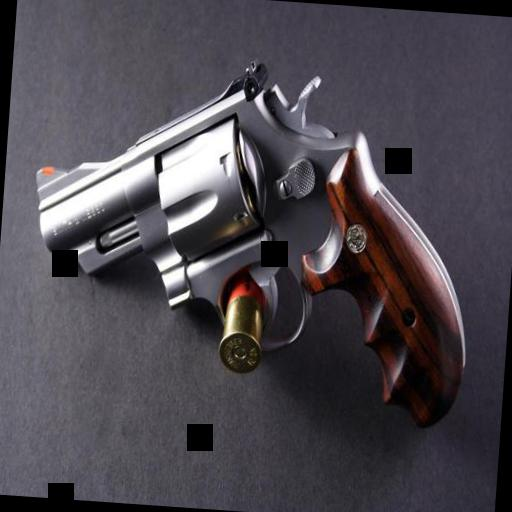Handgun: (16, 42, 486, 440)
